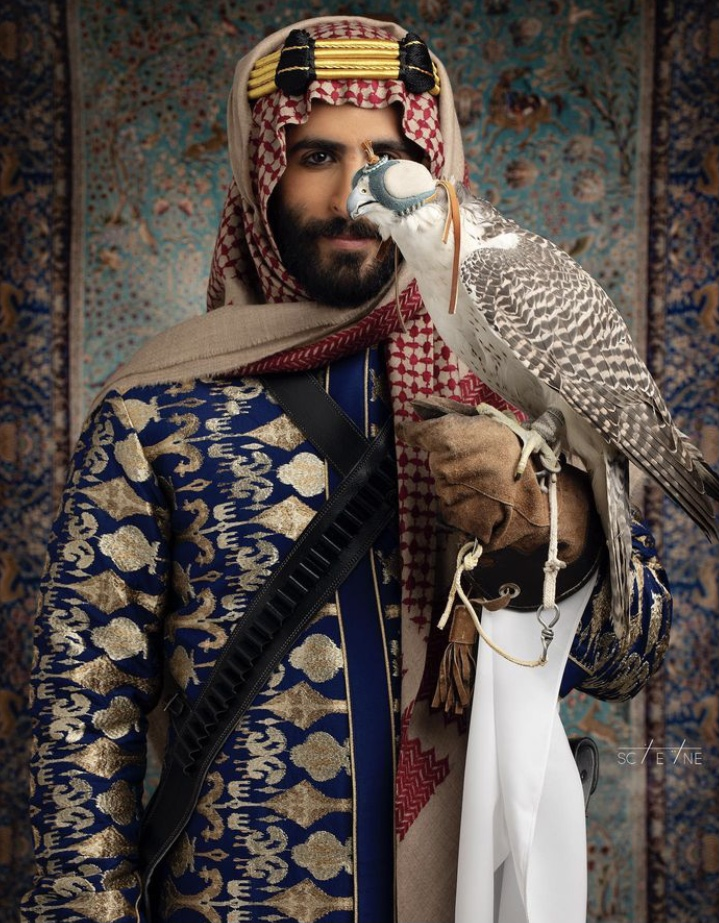Saudi_Founding_Day: (20, 18, 675, 923)
